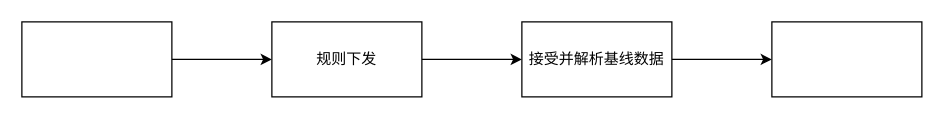
Some shapes in this 944 by 119 pixel diagram are drawn without their labels. The shapes that lost their labels are listed below. From the top down, each one's centre as x and y in pixels, then its label:
At point 96,59: "获取终端基线内容".
At point 846,59: "基线可信值度量".
